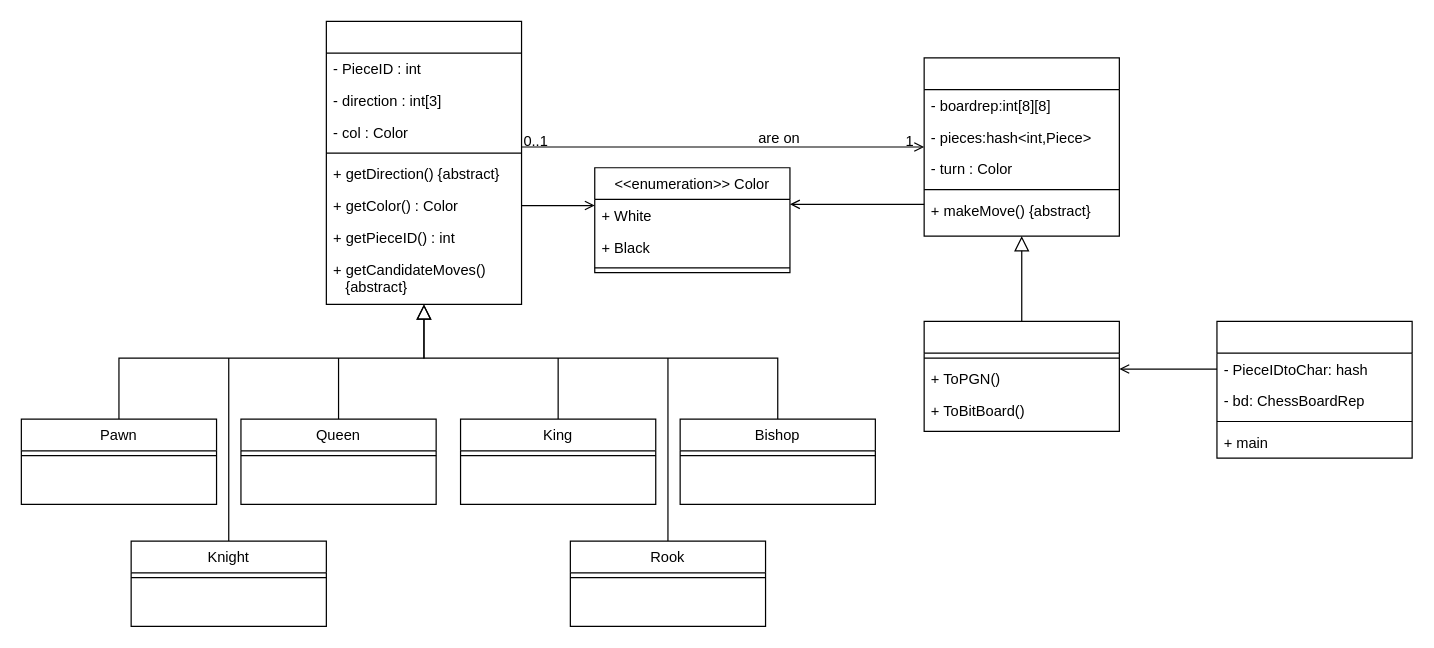
Some shapes in this 1434 by 648 pixel diagram are drawn without their labels. The shapes that lost their labels are listed below. From the top down, each one's box as (x1, y1, x2, y2) in pixels, then its label:
(325, 20, 522, 304): Piece {abstract}
(923, 57, 1119, 236): Board {abstract}
(923, 320, 1119, 431): ChessBoardRep
(1216, 320, 1412, 458): CMDChessApp
